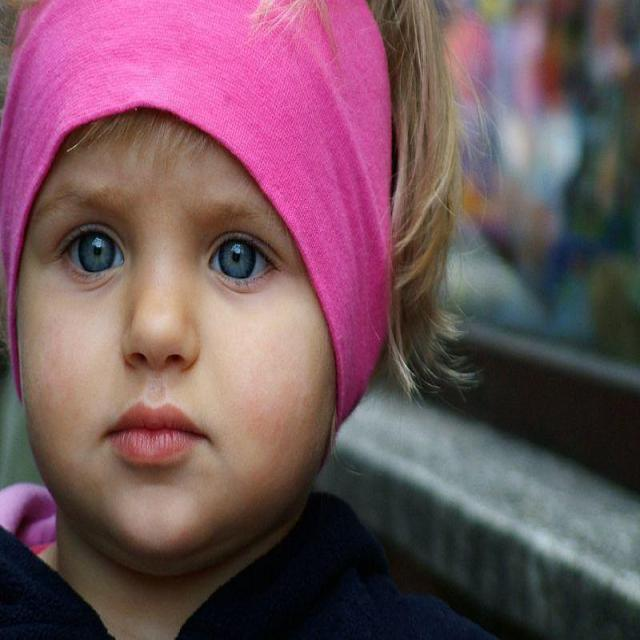no-glass: (50, 214, 276, 293)
